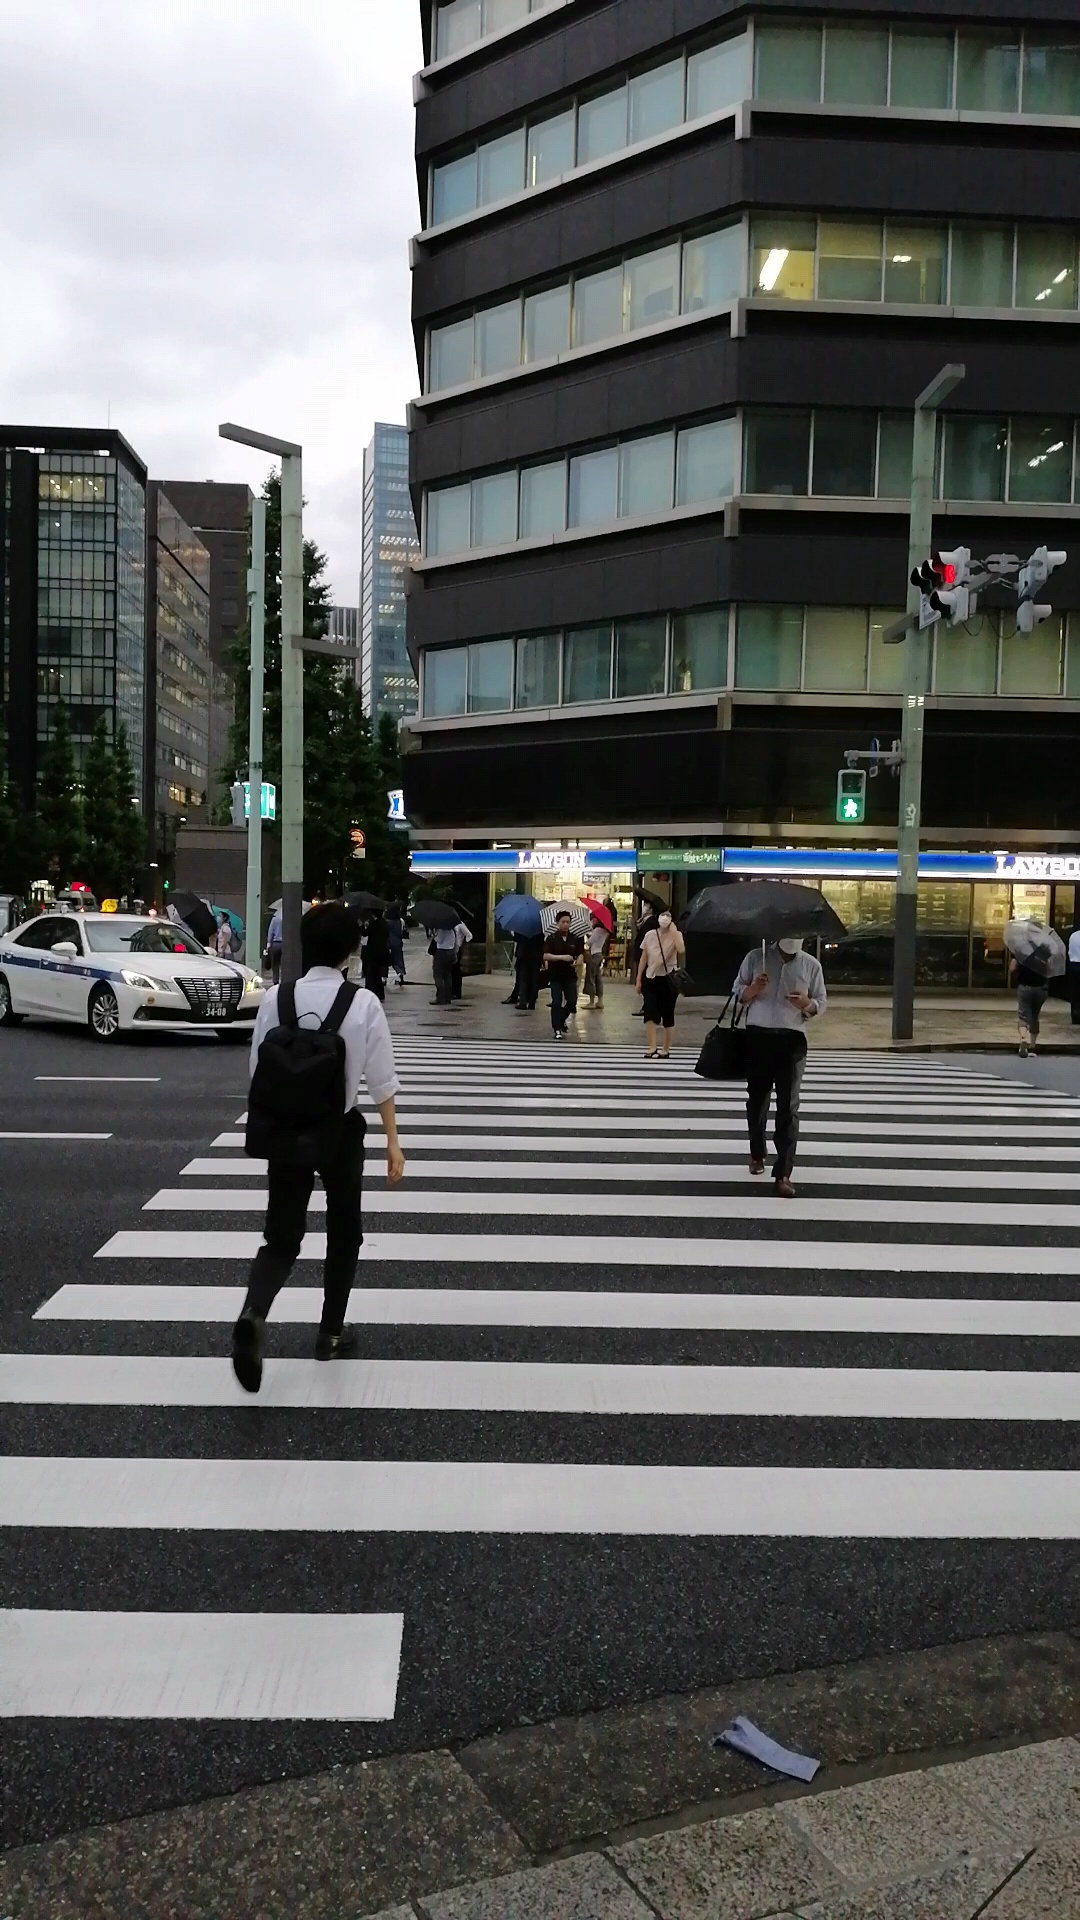green: (833, 767, 866, 825)
